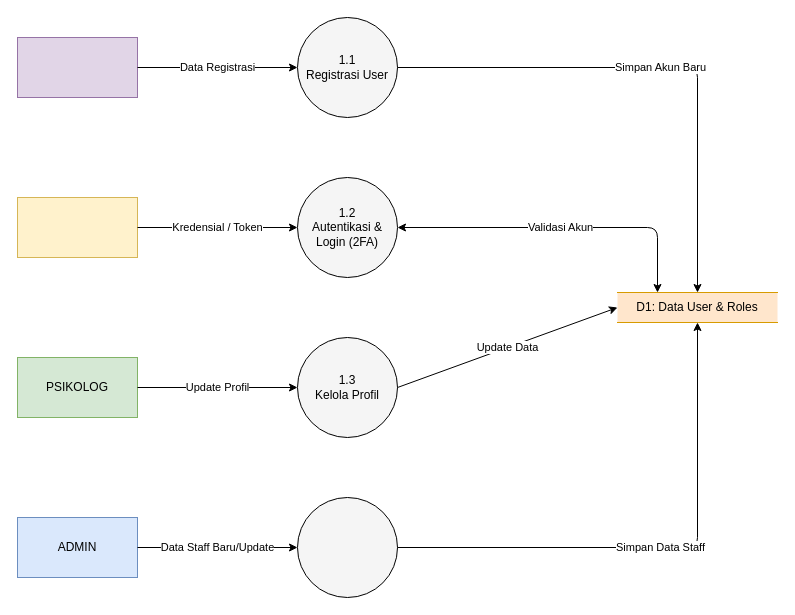
Some shapes in this 795 by 615 pixel diagram are drawn without their labels. The shapes that lost their labels are listed below. From the top down, each one's box as (x1, y1, x2, y2) in pixels, then its label:
(16, 36, 138, 98): PENGUNJUNG
(16, 196, 138, 258): PASIEN
(296, 496, 398, 598): 1.4 Kelola Staff (Psikolog/Admin)
